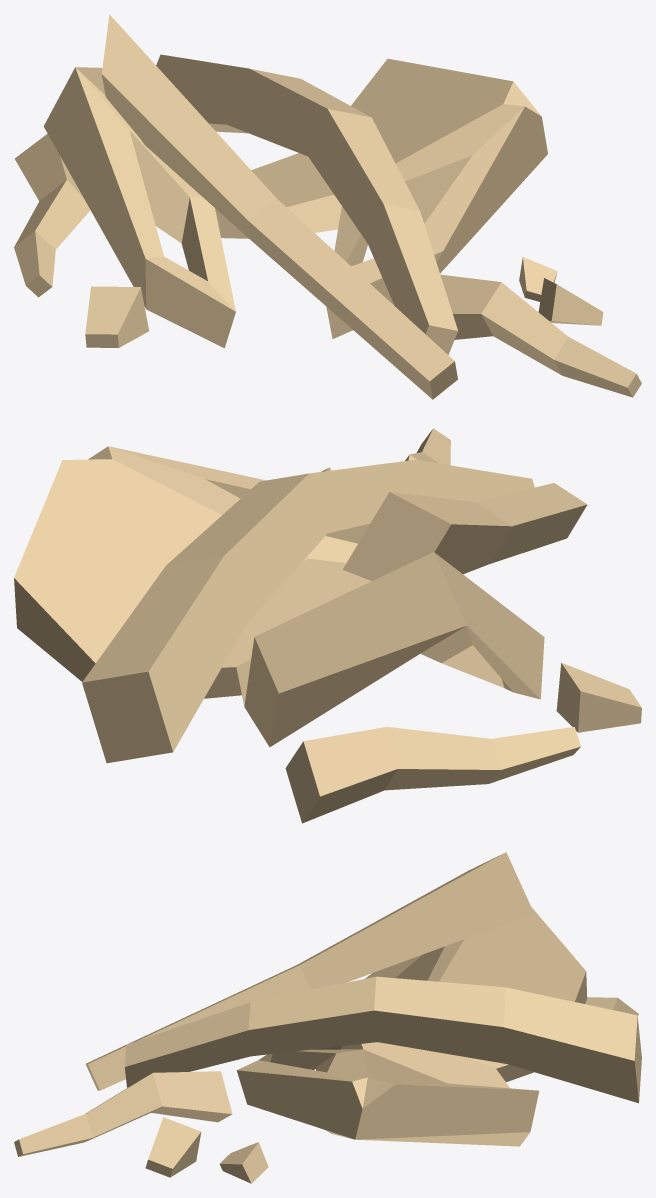
The model's file is Bone_Stack_2__0.glb.
3 renders of one model, top to bottom at view 1: azimuth 30°, elevation 25°; view 2: azimuth 150°, elevation 25°; view 3: azimuth 270°, elevation 25°, orthographic. The views are drawn at different scales.
Parts seen in each view (by area): view 1: Bone_Stack_2__0; view 2: Bone_Stack_2__0; view 3: Bone_Stack_2__0.
Boxes of the visible parts, x1,y1,x2,y2 form: Bone_Stack_2__0: [14, 14, 641, 399]; Bone_Stack_2__0: [14, 428, 641, 823]; Bone_Stack_2__0: [14, 852, 641, 1183].
Size of the model in its own units: 0.4352 by 0.2214 by 0.5783.
1 material, 1 textured.
